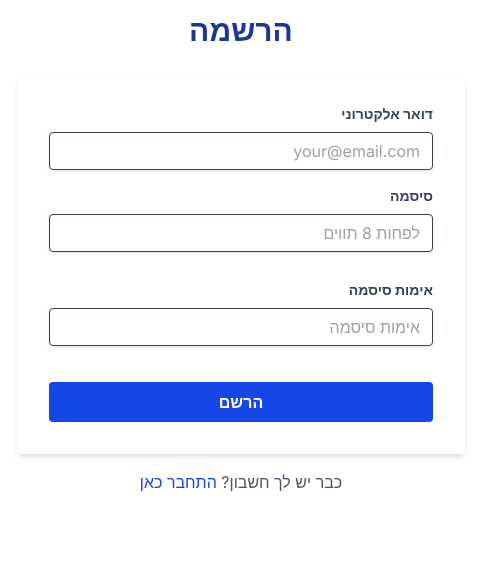
Scenario: Signup Page › validates password confirmation
The image size is (483, 574).
Note: Fill form with non-matching passwords
In the field labelled "דואר אלקטרוני": (241, 151) x1=49 y1=132 x2=433 y2=170, type "test@example.com"
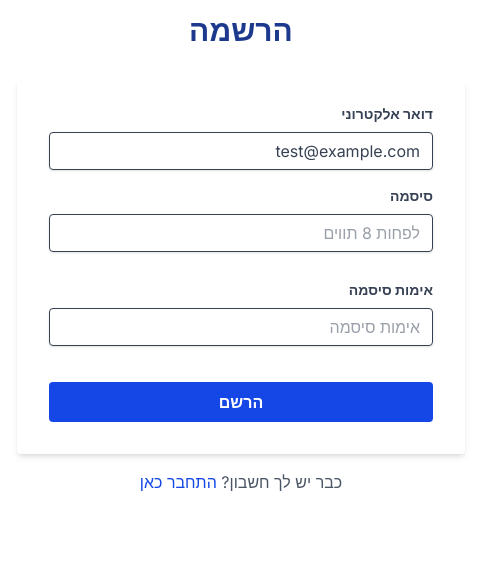
In the password field labelled "סיסמה": (241, 233) x1=49 y1=214 x2=433 y2=252, type "password123"
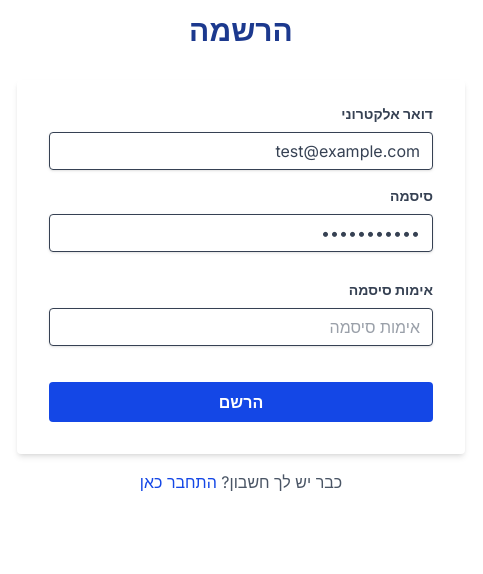
In the password field labelled "אימות סיסמה": (241, 327) x1=49 y1=308 x2=433 y2=346, type "different"
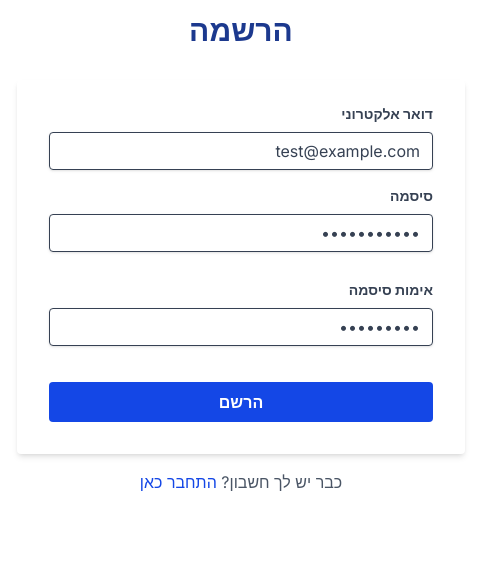
Note: Submit form
Click the button "הרשם": click(241, 402) x1=49 y1=382 x2=433 y2=422
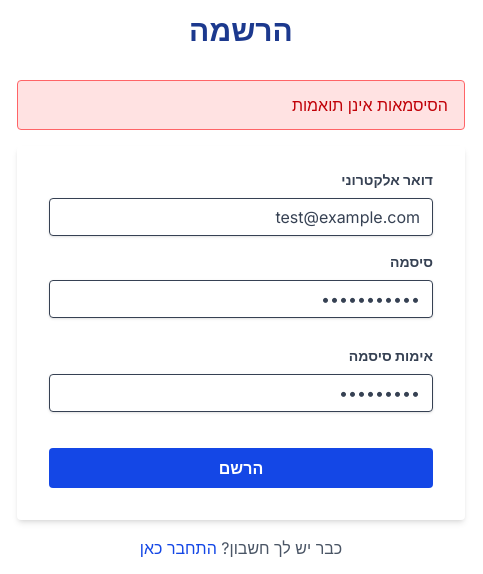
Check: the text "הסיסמאות אינן תואמות" is shown, box x1=292 y1=95 x2=448 y2=115
